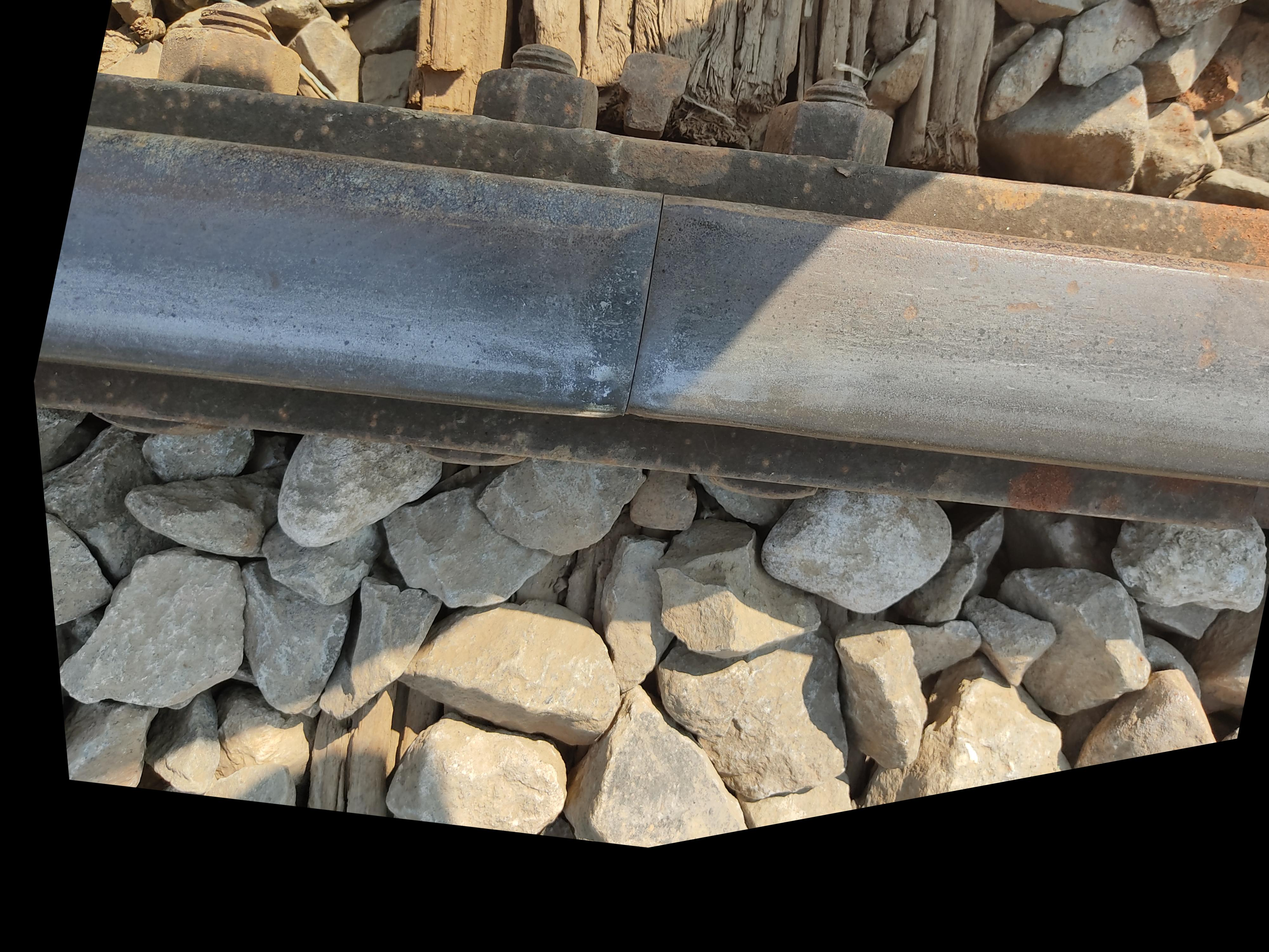person: (191, 428, 405, 658)
